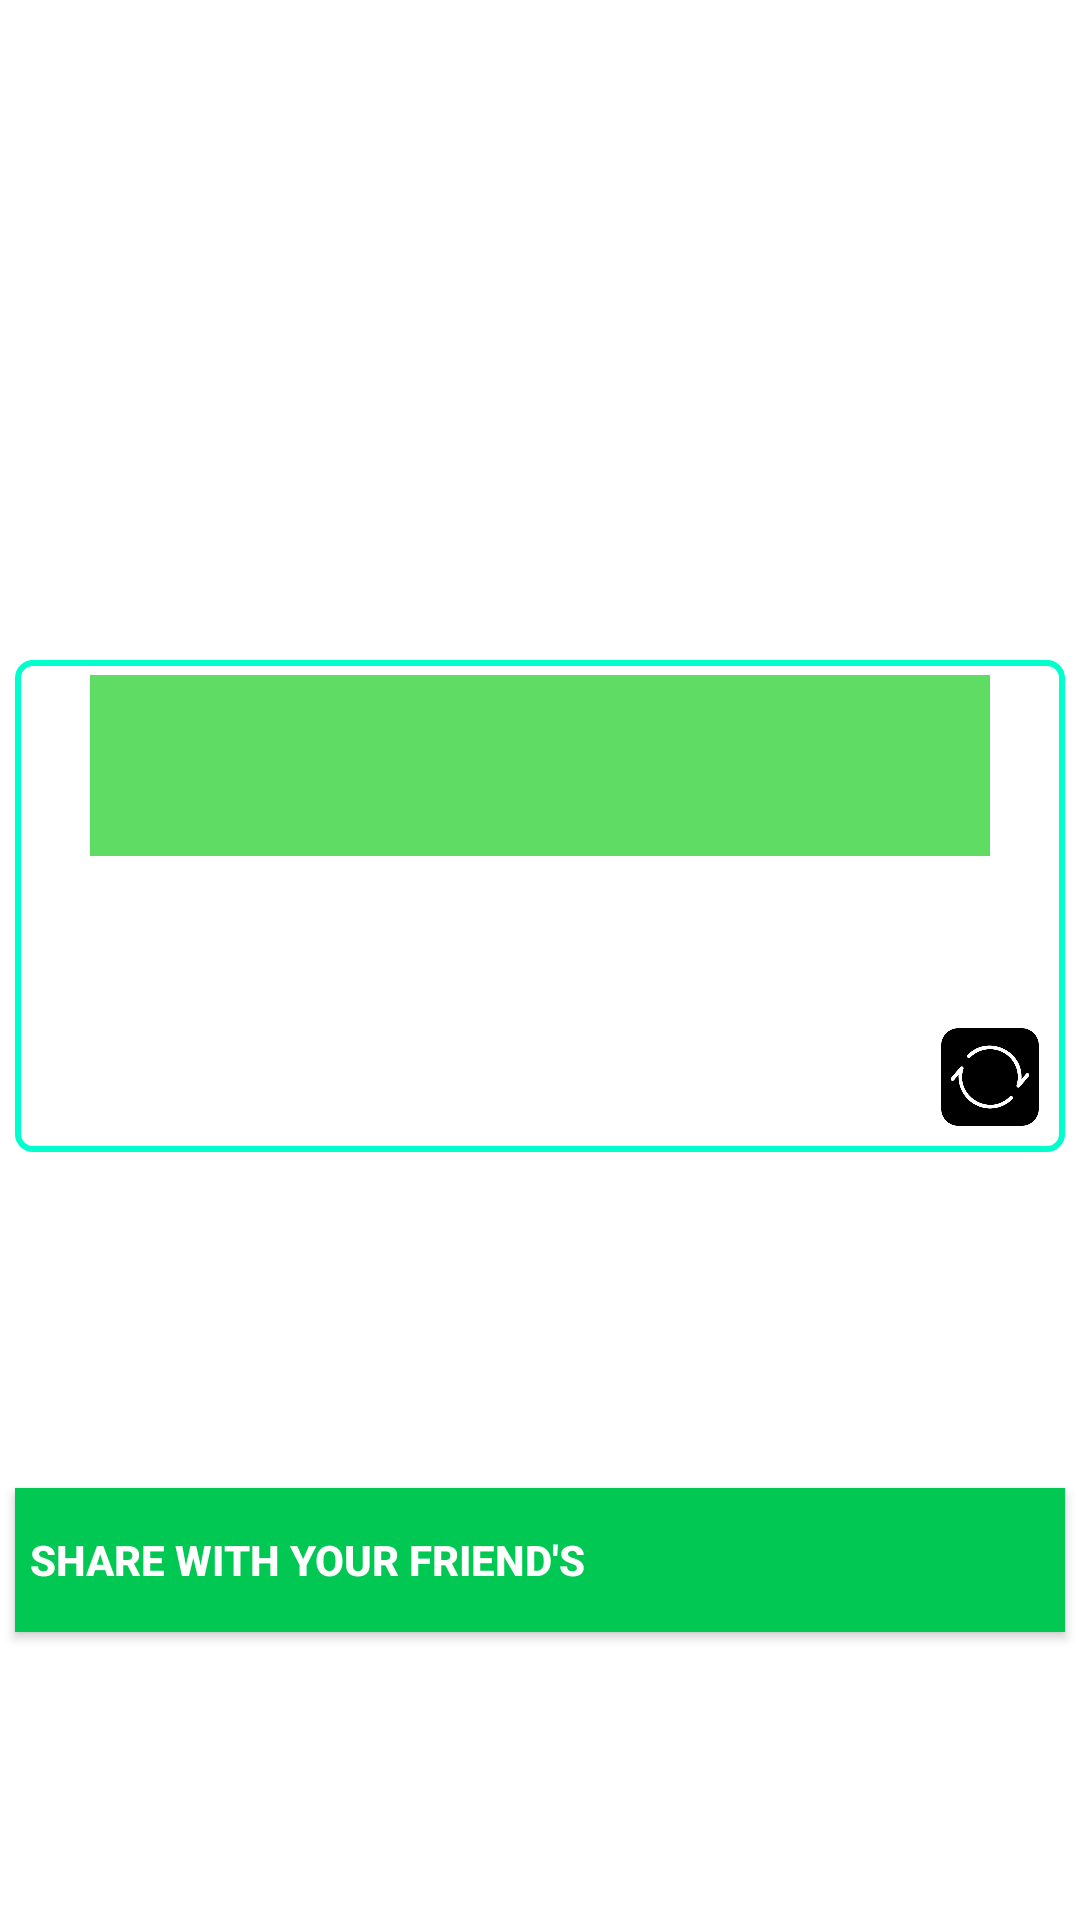

Locate icon controls on the screen. Image size 1080w x 1920h, boxes as (x1, y1, x2, y2).
refresh: (941, 1028, 1039, 1126)
